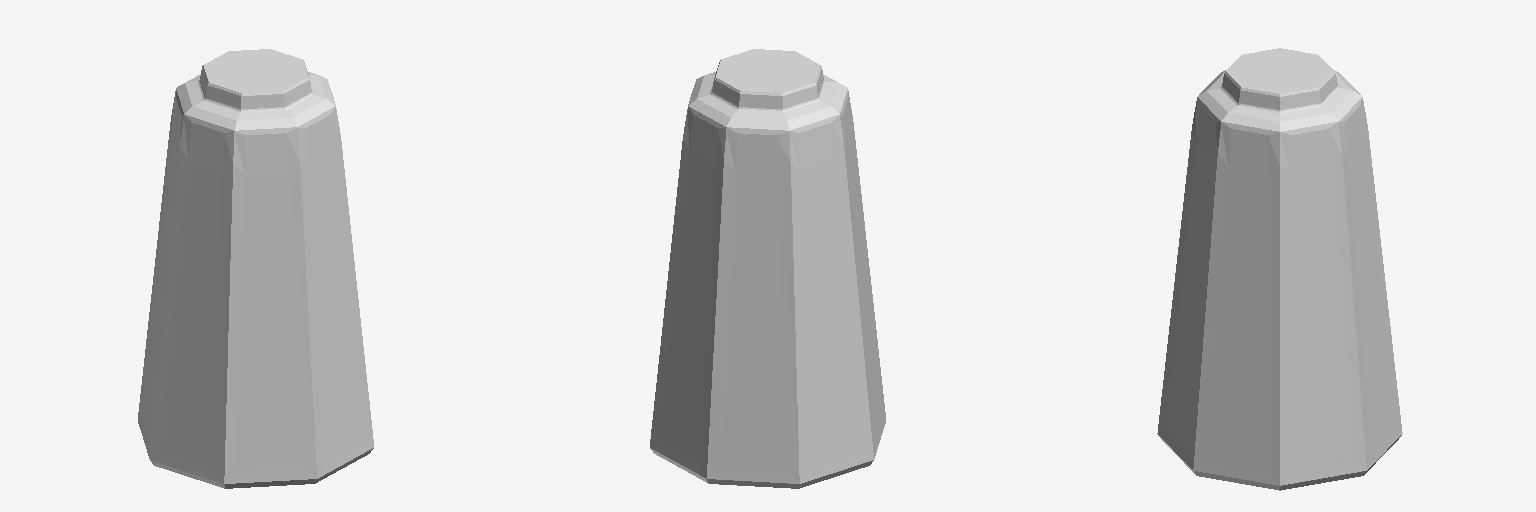
The model's file is Salt_Shaker_1_0.obj.
3 renders of one model, left to right at view 1: azimuth 30°, elevation 25°; view 2: azimuth 150°, elevation 25°; view 3: azimuth 270°, elevation 25°, orthographic.
Size of the model in its own units: 0.0543 by 0.0903 by 0.0543.